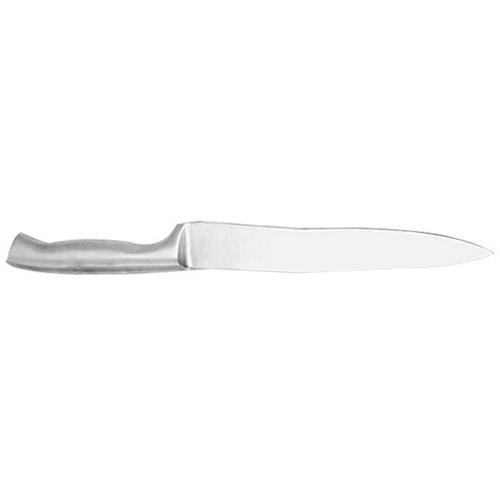knife: (8, 220, 497, 273)
